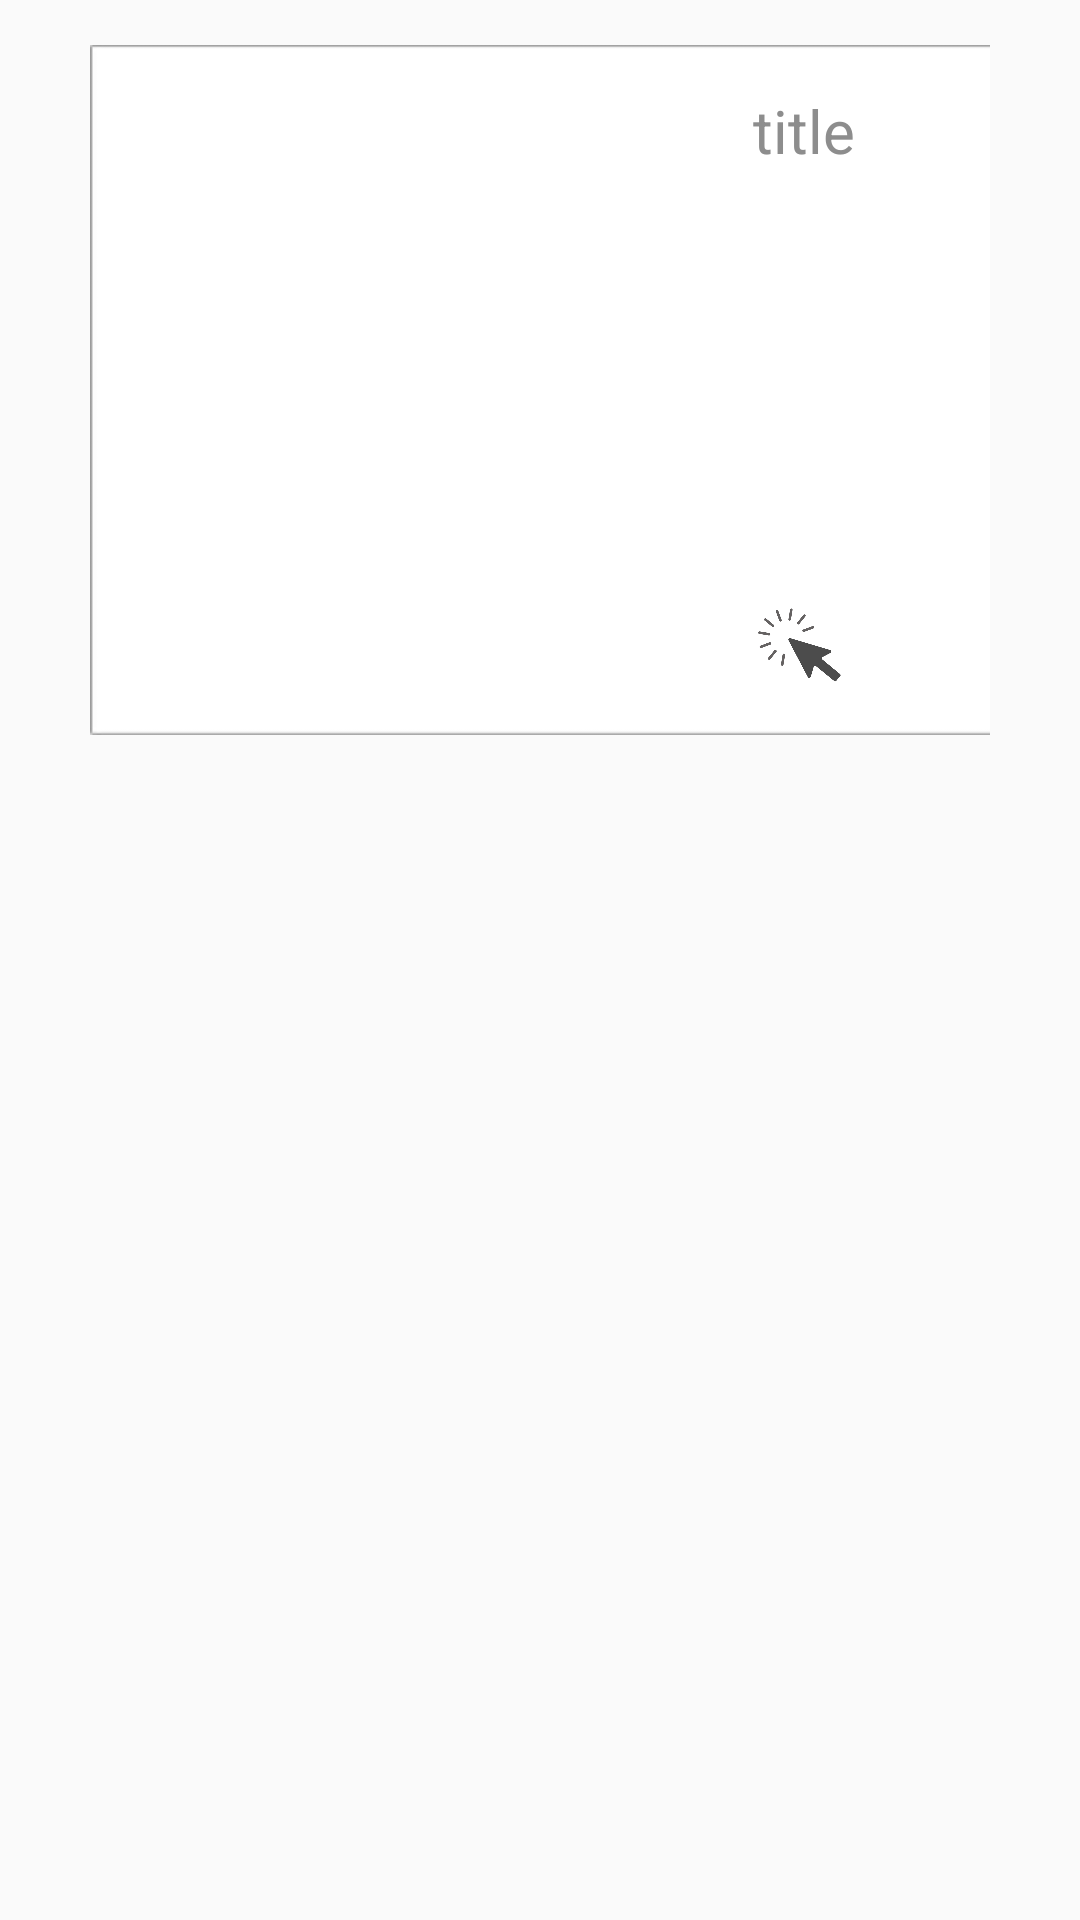

Icons on this 1080x1920 Android screen, each with the point to tap as (x=x, y=y):
drawer click: (x=799, y=644)
